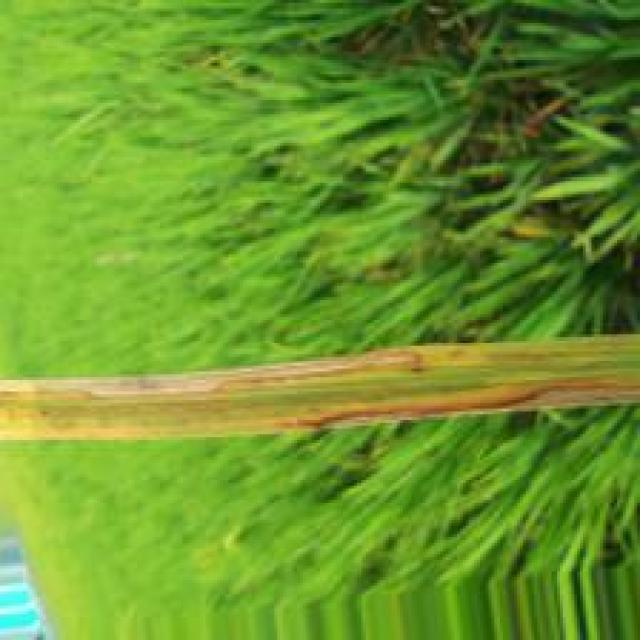Leaf_Blast: (0, 339, 640, 445)
